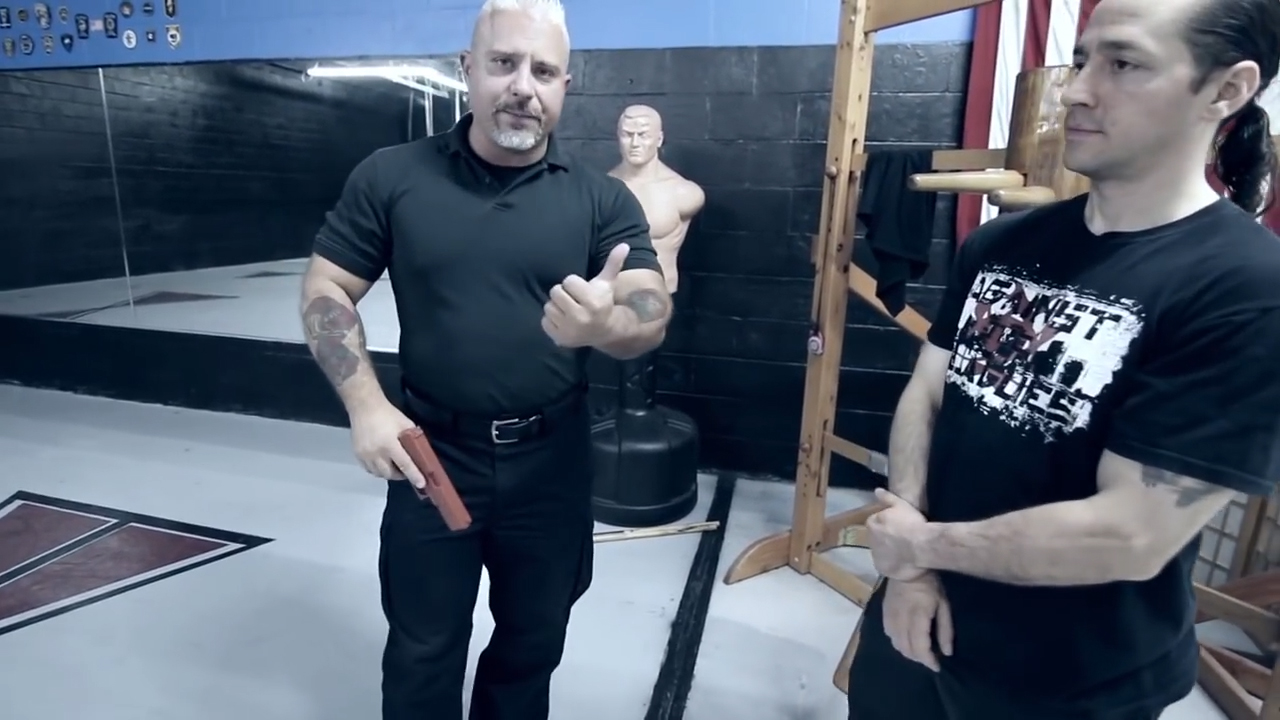pistol: (388, 423, 475, 534)
